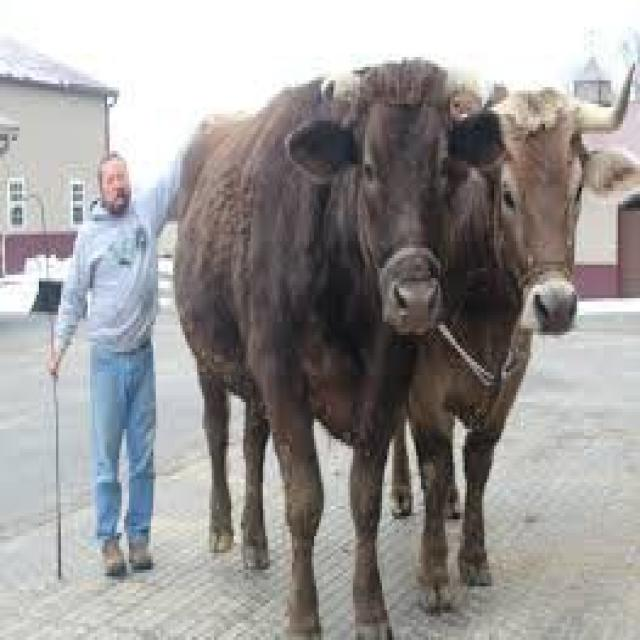Ox: (170, 51, 497, 637), (401, 66, 640, 614)
